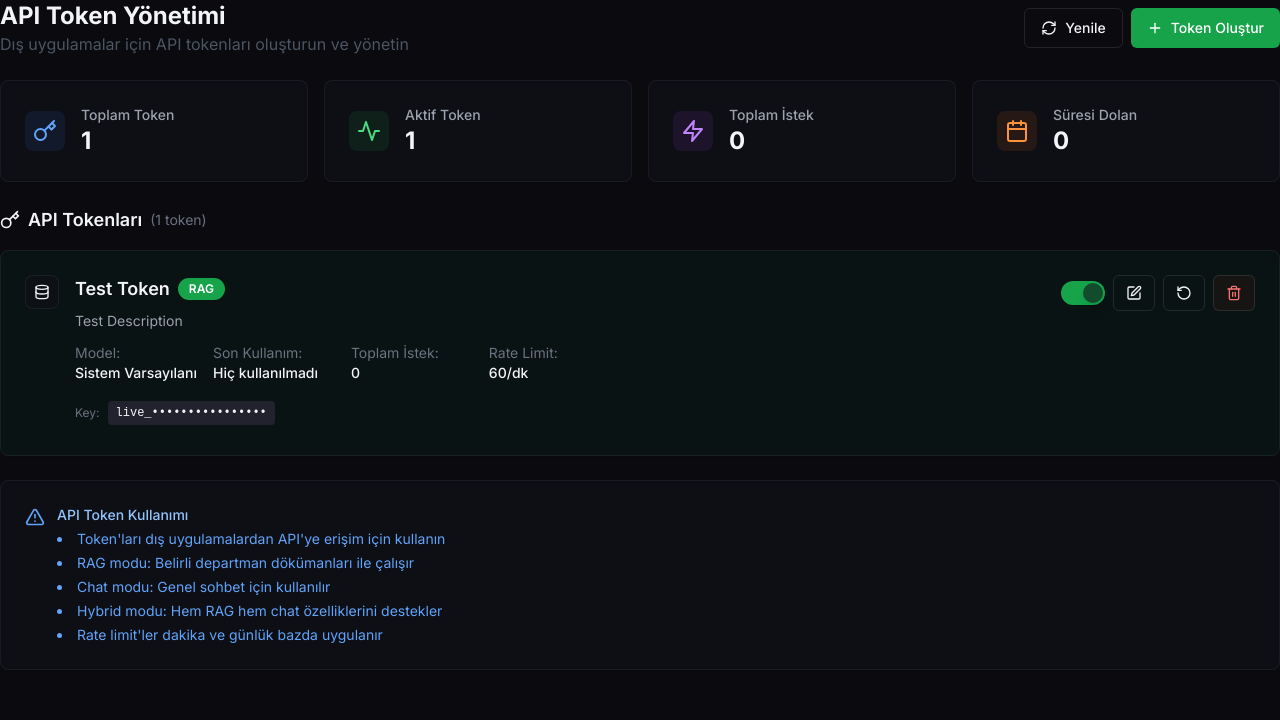
Test case: APITokensPage - Token Edit › should load existing token data into edit form
Expected: the heading "Test Token" is shown, [75,275,170,303]
Click edit button
Click the button titled "Düzenle" at (1134, 293), box [1113,275,1155,311]
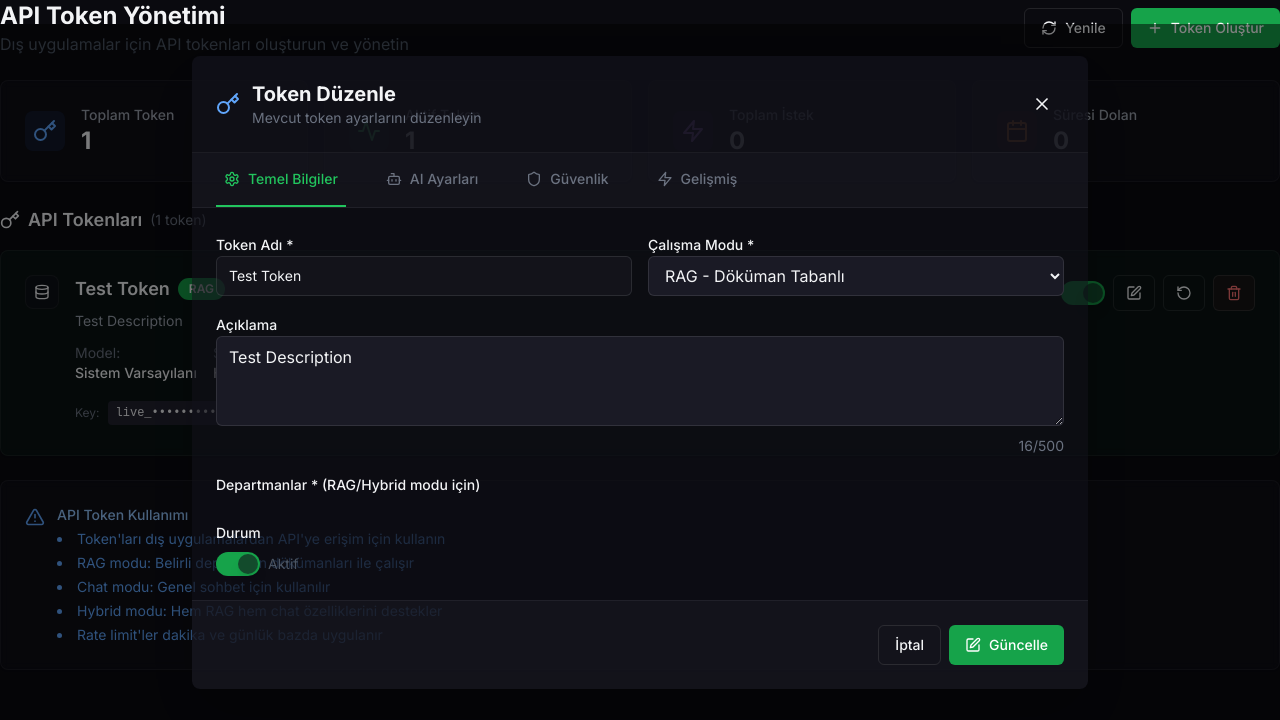
Expected: the heading "Token Düzenle" is shown, [252,82,396,106]
Expected: the field showing "Test Token" is shown, [216,256,632,296]
